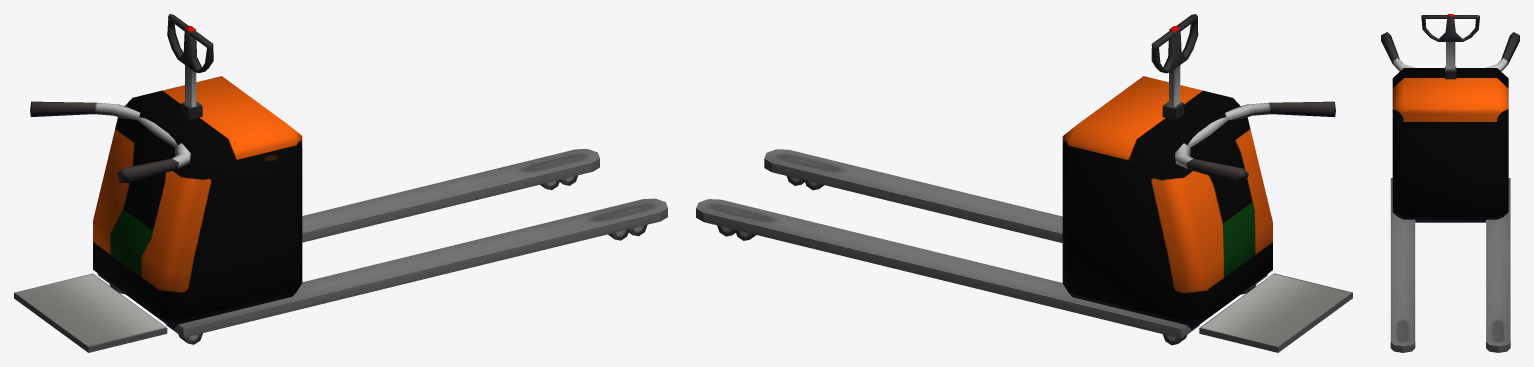
The picture shows the model from 3 angles, left to right: view 1: azimuth 30°, elevation 25°; view 2: azimuth 150°, elevation 25°; view 3: azimuth 270°, elevation 25°; orthographic projection. The views are drawn at different scales.
Parts seen in each view (by area): view 1: PEBody, PEConsole; view 2: PEBody, PEConsole; view 3: PEBody, PEConsole.
Boxes of the visible parts, bbox=[...] form: PEBody: bbox=[14, 76, 667, 352]; PEConsole: bbox=[167, 14, 213, 107]; PEBody: bbox=[696, 76, 1352, 352]; PEConsole: bbox=[1151, 14, 1198, 107]; PEBody: bbox=[1381, 32, 1519, 352]; PEConsole: bbox=[1421, 14, 1479, 69].
Bounding box in the file's own units: 14.7 × 6.78 × 4.34.
1 material, 1 textured.
